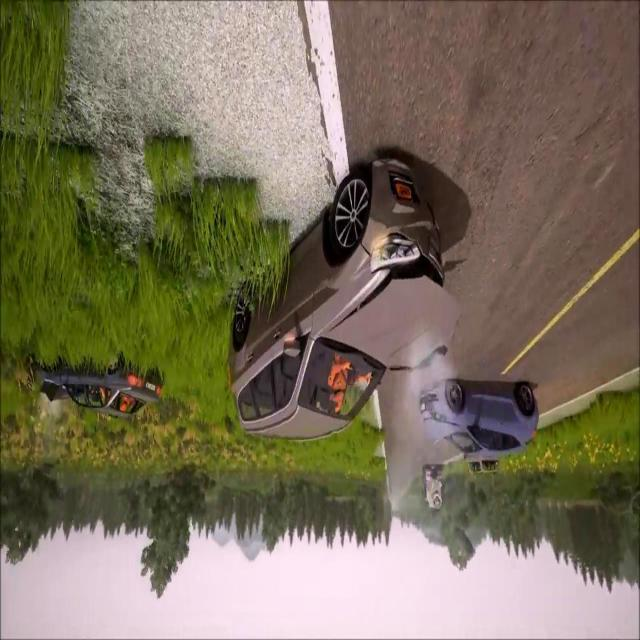vehicle: (212, 153, 450, 450), (404, 358, 560, 473), (42, 350, 182, 453)
